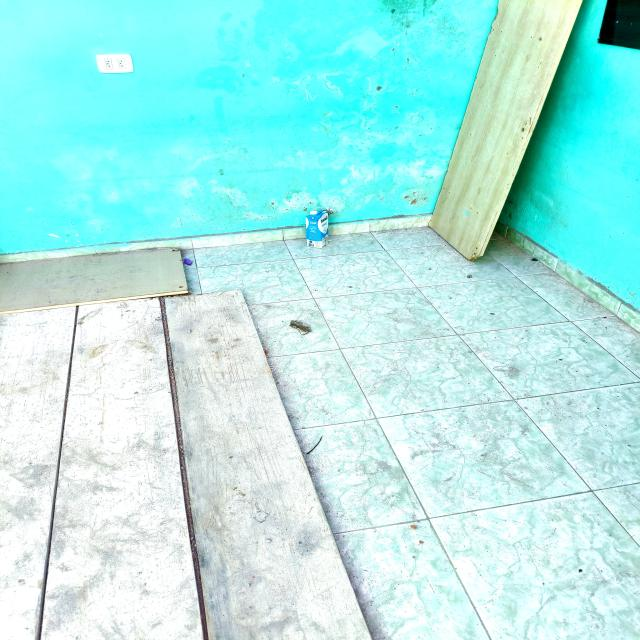Caixa de Leite: (304, 209, 328, 248)
